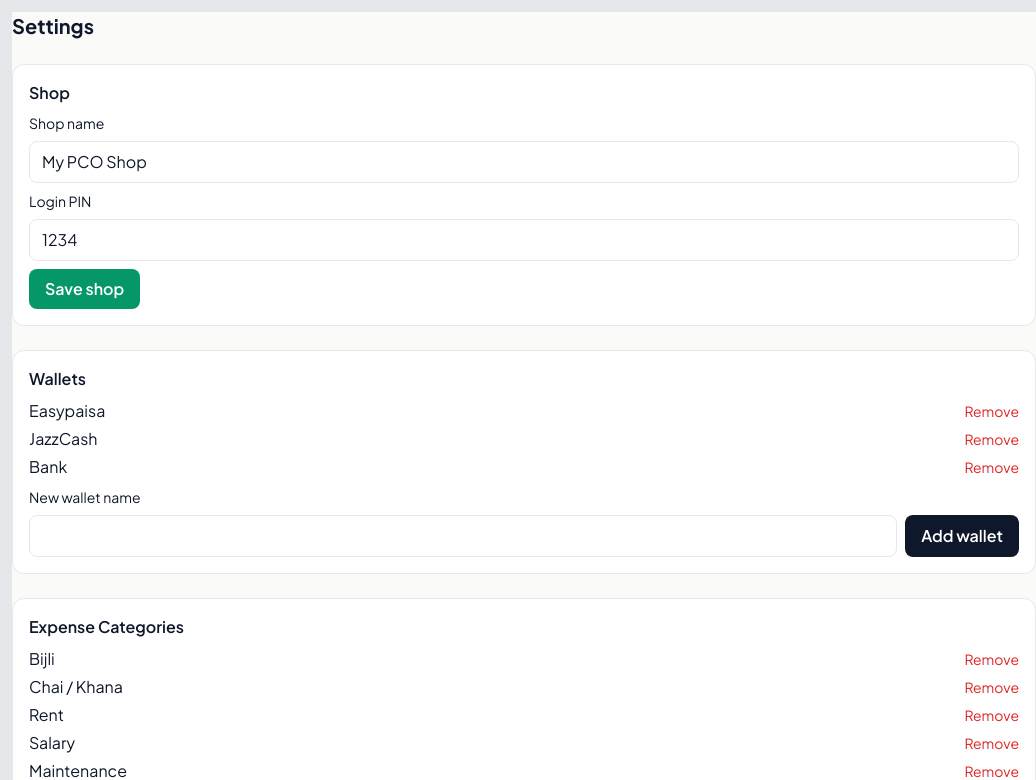
Scenario: Settings › removes an expense category
This screenshot has width=1036, height=780.
Click the button "Remove" in the row of "Bijli". click: (992, 659)
box: [964,649,1019,669]
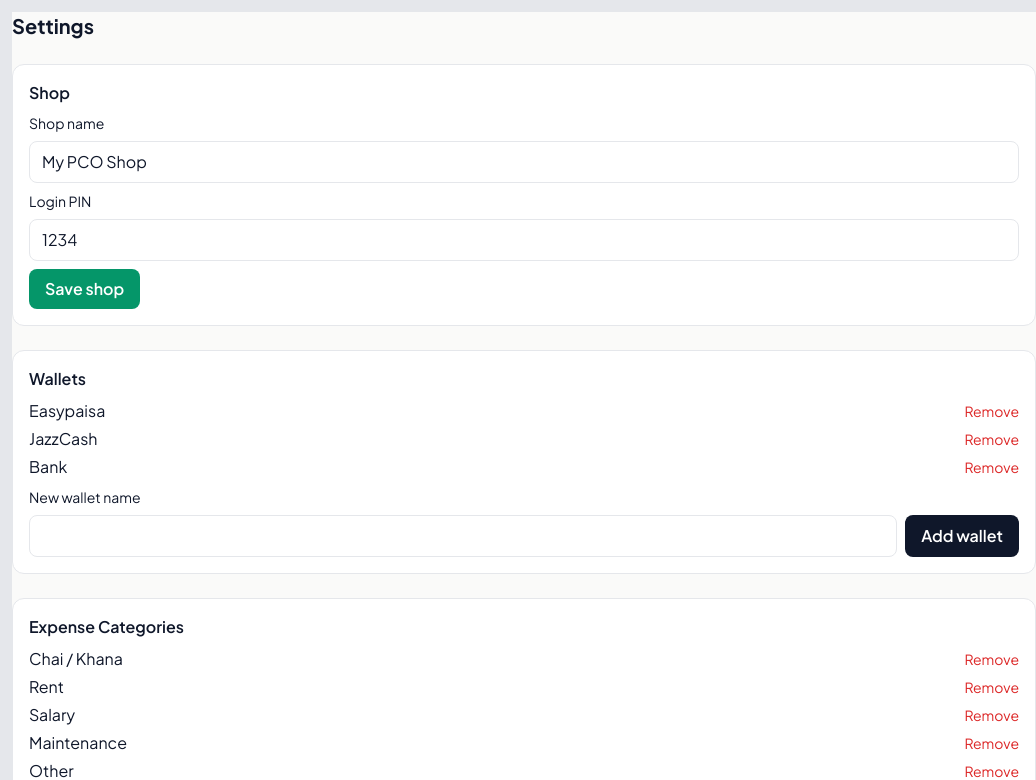
expect the text "Bijli" is gone: met
